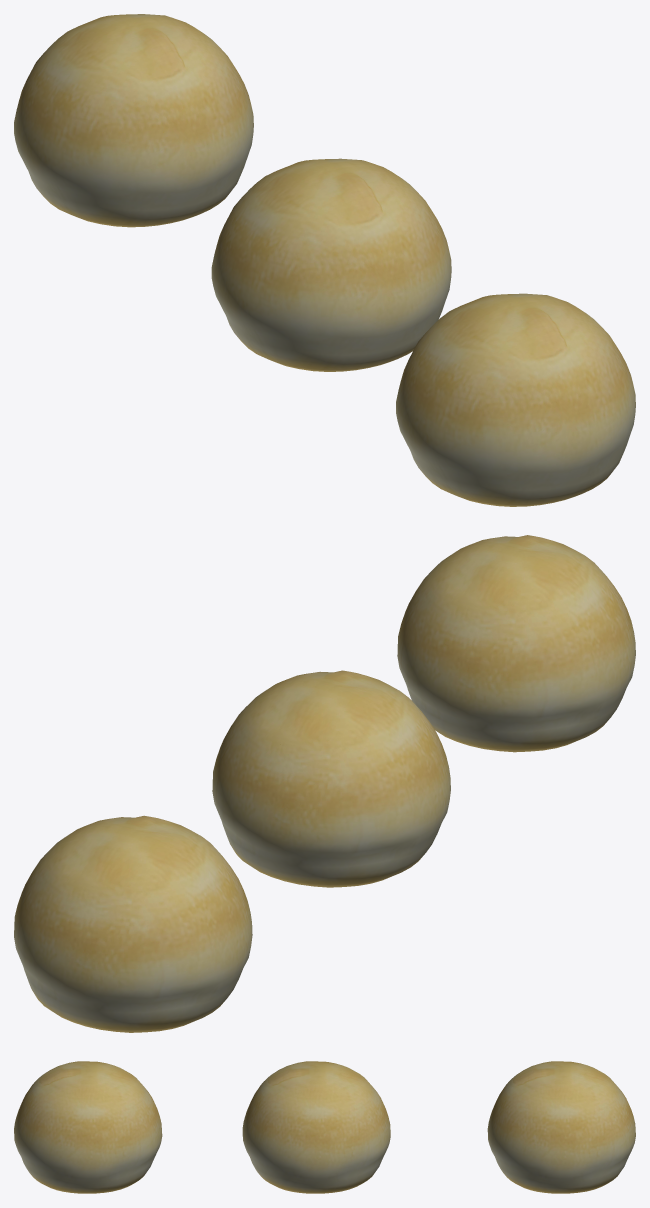
File: Pan.obj
The picture shows the model from 3 angles, top to bottom: view 1: azimuth 30°, elevation 25°; view 2: azimuth 150°, elevation 25°; view 3: azimuth 270°, elevation 25°; orthographic projection. The views are drawn at different scales.
Parts seen in each view (by area): view 1: Pan; view 2: Pan; view 3: Pan.
Boxes of the visible parts, x1,y1,x2,y2 form: Pan: (14,14,635,506); Pan: (14,535,635,1032); Pan: (14,1061,635,1193).
Bounding box in the file's own units: 1.44 × 1.13 × 6.03.
Materials: 1 (1 with a texture image).
